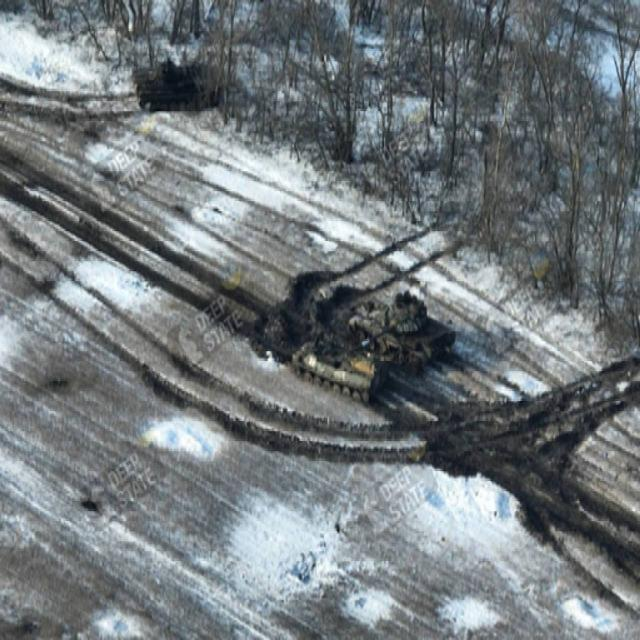APC-IFV: (290, 331, 381, 402), (132, 47, 230, 111)
TANK: (350, 284, 458, 378)
